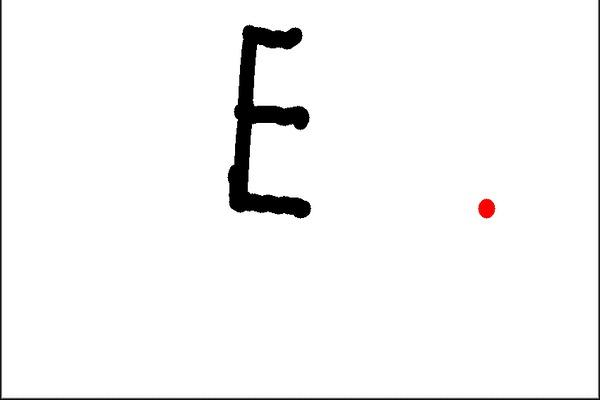E: (224, 18, 342, 221)
